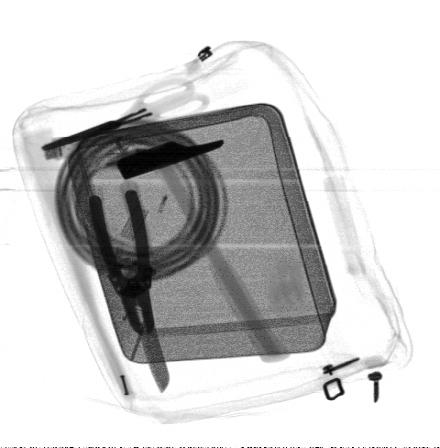Hammer: (115, 139, 292, 361)
Knife: (118, 264, 169, 395)
Pliers: (86, 181, 159, 337)
Scissors: (42, 77, 213, 150)
